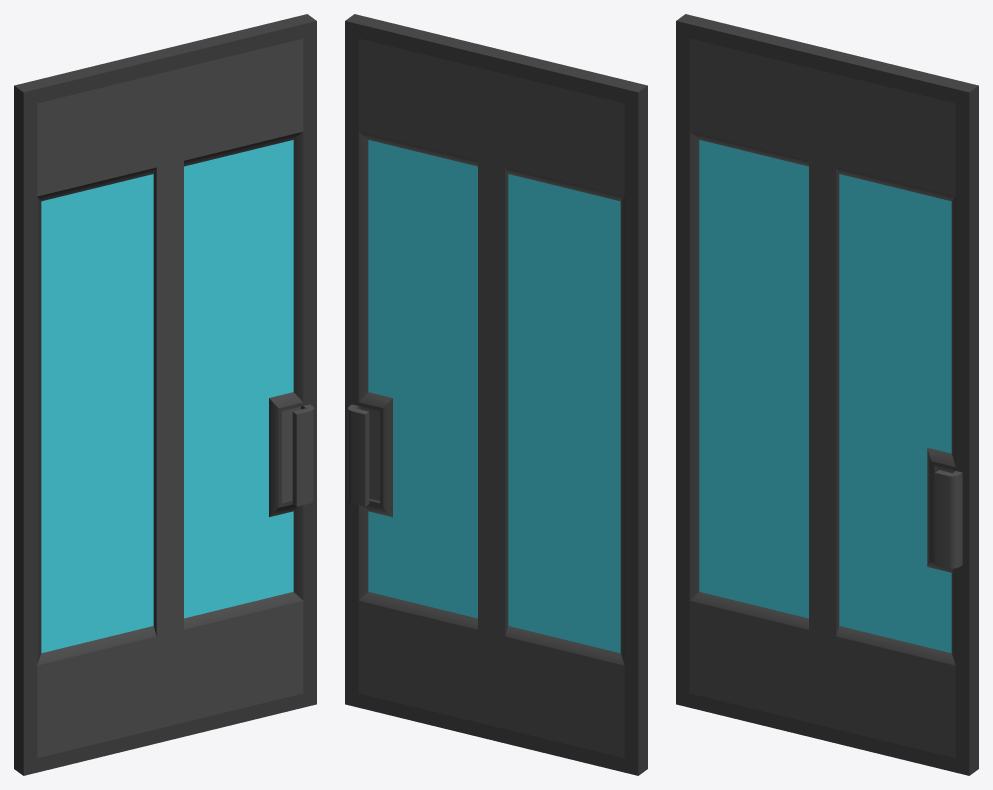
File: SM_Buildings_Commercial_19_Door_L.fbx
3 renders of one model, left to right at view 1: azimuth 30°, elevation 25°; view 2: azimuth 150°, elevation 25°; view 3: azimuth 330°, elevation 25°, orthographic.
Visible parts, largest first — view 1: SM_Buildings_Commercial_19_Door_L; view 2: SM_Buildings_Commercial_19_Door_L; view 3: SM_Buildings_Commercial_19_Door_L.
Boxes of the visible parts, x1=… form: SM_Buildings_Commercial_19_Door_L: x1=14, y1=14, x2=316, y2=775; SM_Buildings_Commercial_19_Door_L: x1=345, y1=14, x2=647, y2=775; SM_Buildings_Commercial_19_Door_L: x1=676, y1=14, x2=978, y2=775.
Size of the model in its own units: 1.08 by 2.39 by 0.15.
